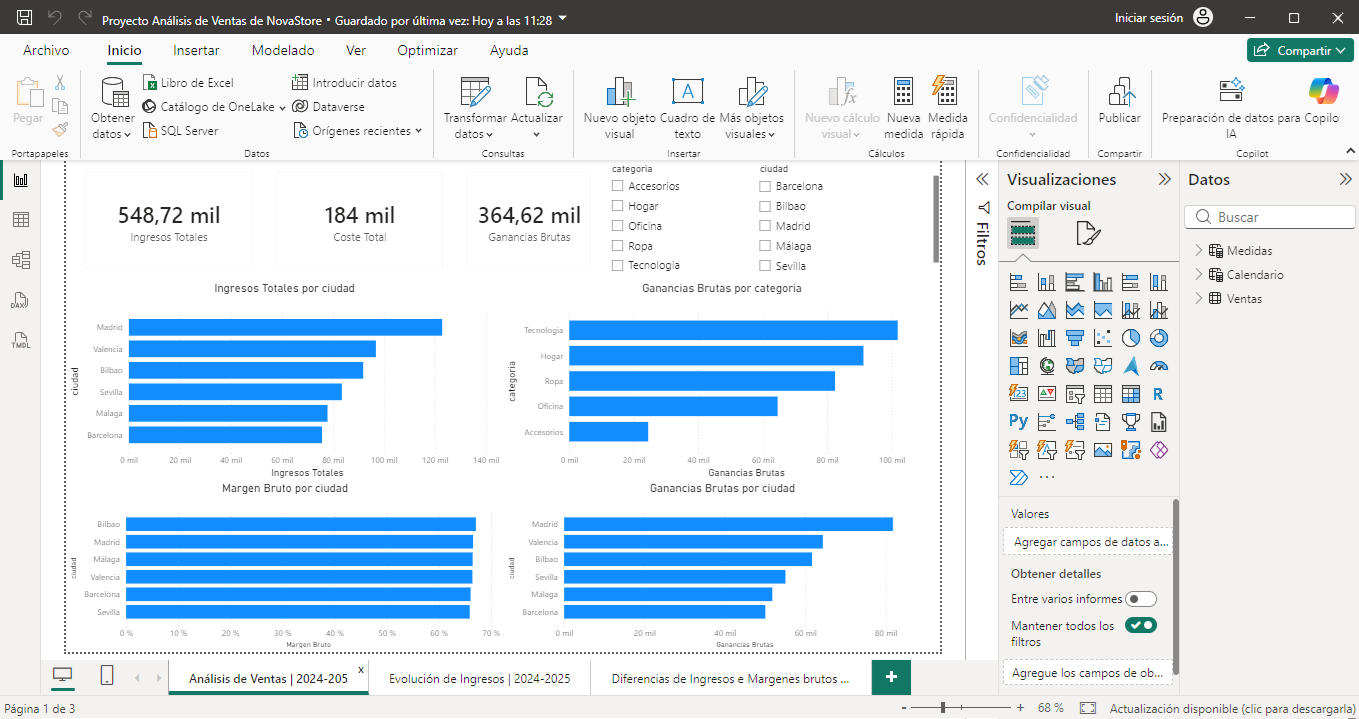

The dashboard page shown, as its layout file describes it:
{"tool":"powerbi","page":{"name":"Análisis de Ventas | 2024-205","canvas":[1280,720],"ordinal":0},"visuals":[{"type":"cardVisual","fields":{"Data":["Medidas.Ingresos Totales"]},"box":[10.2,0,279.4,177.8],"z":0},{"type":"cardVisual","fields":{"Data":["Medidas.Coste Total"]},"box":[289.8,0,279.5,177.1],"z":1000},{"type":"cardVisual","fields":{"Data":["Medidas.Ganancias Brutas"]},"box":[569.3,0,216.6,177.1],"z":2000},{"type":"slicer","fields":{"Values":["Ventas.ciudad"]},"box":[1002.4,0,279.5,177.1],"z":3000},{"type":"clusteredBarChart","fields":{"Category":["Ventas.ciudad"],"Y":["Medidas.Ingresos Totales"]},"box":[0,177.1,639.5,292.7],"z":4000},{"type":"clusteredBarChart","fields":{"Y":["Medidas.Ganancias Brutas"],"Category":["Ventas.categoria"]},"box":[639.5,177.1,641,292.7],"z":5000},{"type":"slicer","fields":{"Values":["Ventas.categoria"]},"box":[785.9,0,216.6,177.1],"z":6000},{"type":"clusteredBarChart","fields":{"Category":["Ventas.ciudad"],"Y":["Medidas.Ganancias Brutas"]},"box":[641,469.8,639.5,250.2],"z":7000},{"type":"clusteredBarChart","fields":{"Category":["Ventas.ciudad"],"Y":["Medidas.Margen Bruto"]},"box":[0,469.8,641,250.2],"z":8000}]}

Visuals, with their boxes on the page's 1280x720 design canvas (x1, y1, x2, y2). These are canvas units, not pixel positions in the 1359x719 screenshot, which may show the page scaled, cropped or inside an application window:
cardVisual - Medidas.Ingresos Totales: (left=10, top=0, right=290, bottom=178)
cardVisual - Medidas.Coste Total: (left=290, top=0, right=569, bottom=177)
cardVisual - Medidas.Ganancias Brutas: (left=569, top=0, right=786, bottom=177)
slicer - Ventas.ciudad: (left=1002, top=0, right=1282, bottom=177)
clusteredBarChart - Ventas.ciudad x Medidas.Ingresos Totales: (left=0, top=177, right=640, bottom=470)
clusteredBarChart - Medidas.Ganancias Brutas x Ventas.categoria: (left=640, top=177, right=1280, bottom=470)
slicer - Ventas.categoria: (left=786, top=0, right=1002, bottom=177)
clusteredBarChart - Ventas.ciudad x Medidas.Ganancias Brutas: (left=641, top=470, right=1280, bottom=720)
clusteredBarChart - Ventas.ciudad x Medidas.Margen Bruto: (left=0, top=470, right=641, bottom=720)
